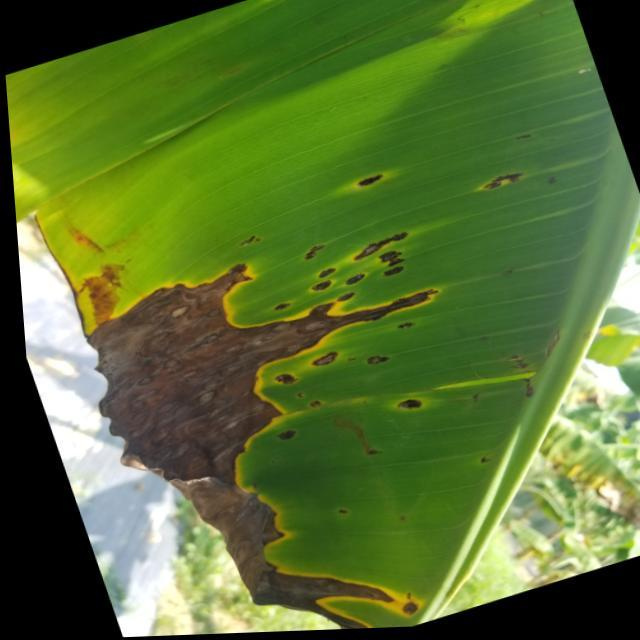Early_rust: (21, 102, 534, 640), (496, 406, 640, 533), (575, 294, 640, 390)
